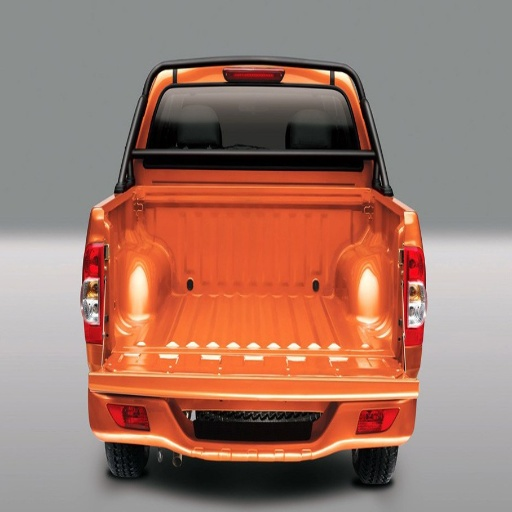back_bumper: (89, 359, 416, 462)
trunk: (108, 152, 398, 384)
